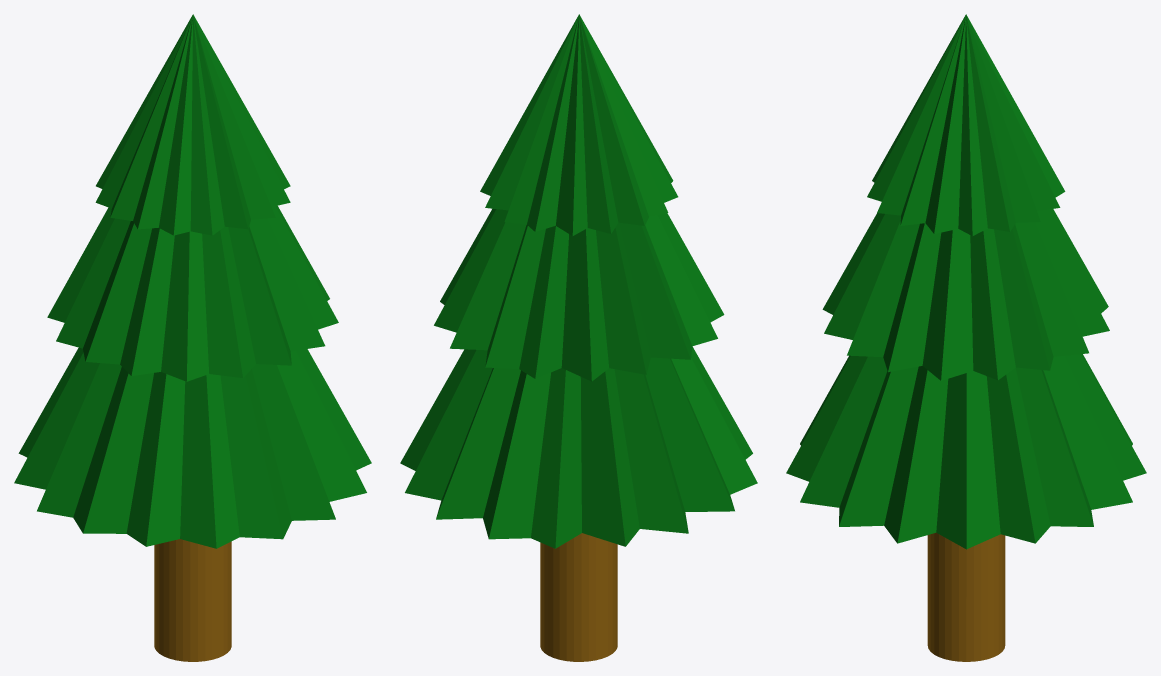
The model's file is Tree.fbx.
The picture shows the model from 3 angles, left to right: view 1: azimuth 30°, elevation 25°; view 2: azimuth 150°, elevation 25°; view 3: azimuth 270°, elevation 25°; orthographic projection.
Parts seen in each view (by area): view 1: Cylinder; view 2: Cylinder; view 3: Cylinder.
Boxes of the visible parts, x1,y1,x2,y2 form: Cylinder: (14, 14, 371, 661); Cylinder: (400, 14, 757, 661); Cylinder: (786, 14, 1146, 661).
Size of the model in its own units: 311 by 601 by 311.
